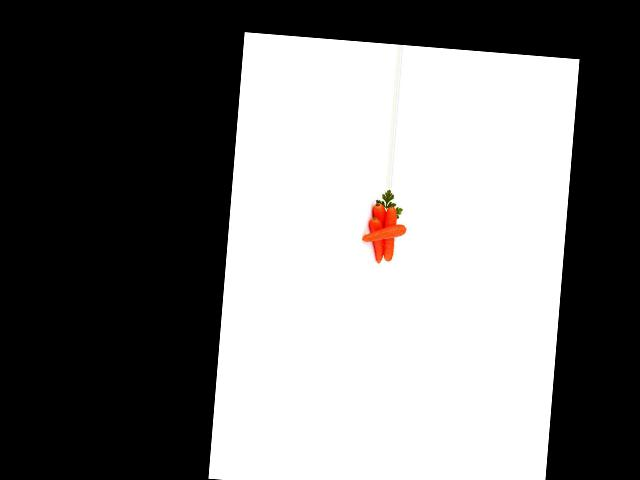carrot: (367, 202, 389, 255)
